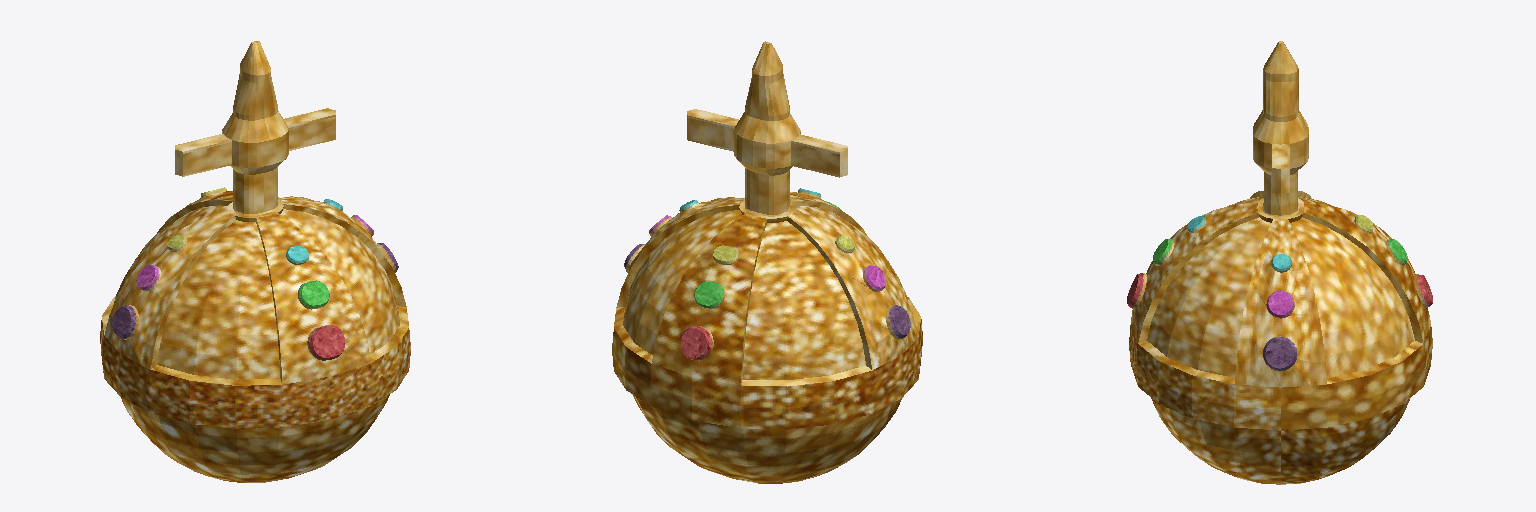
The picture shows the model from 3 angles: view 1: azimuth 30°, elevation 25°; view 2: azimuth 150°, elevation 25°; view 3: azimuth 270°, elevation 25°; orthographic projection.
Visible parts, largest first — view 1: holygranag1:RoadKillOut; view 2: holygranag1:RoadKillOut; view 3: holygranag1:RoadKillOut.
Part boxes in pixels (x1,y1,x2,y2): holygranag1:RoadKillOut: (100,41,410,482); holygranag1:RoadKillOut: (612,41,922,483); holygranag1:RoadKillOut: (1127,41,1432,484).
Size of the model in its own units: 1.33 by 1.94 by 1.27.
Materials: 1 (1 with a texture image).